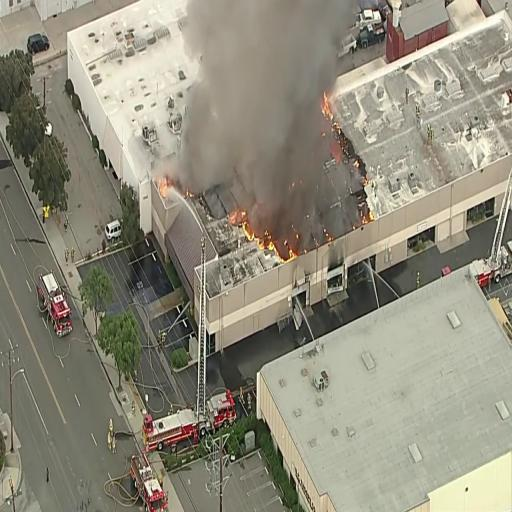smoke: (222, 0, 333, 128)
